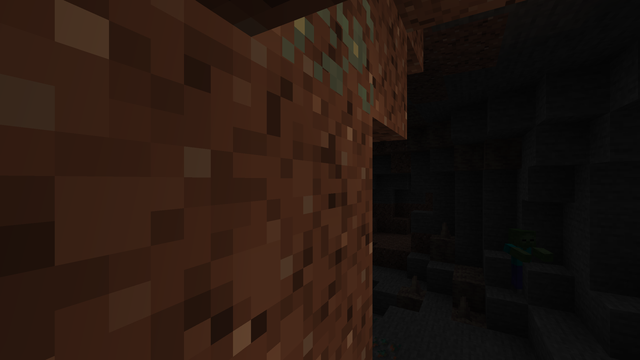zombies: (509, 229, 535, 295)
